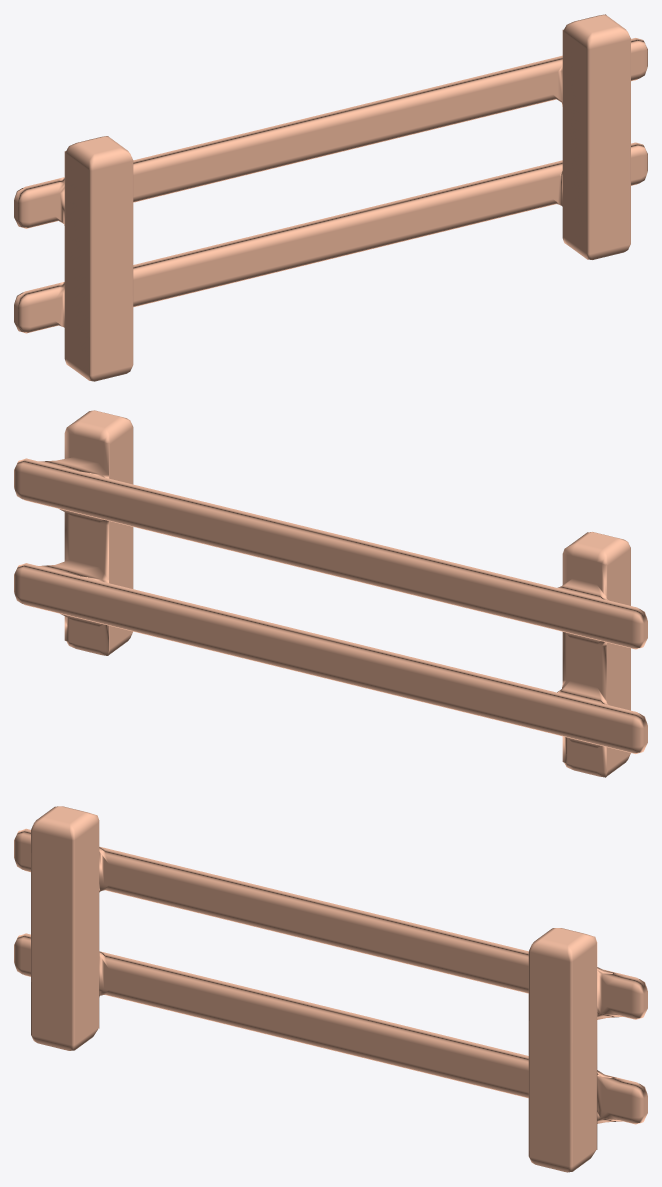
The model's file is fence_planks.glb.
3 views of the same model, one above another, from view 1: azimuth 30°, elevation 25°; view 2: azimuth 150°, elevation 25°; view 3: azimuth 330°, elevation 25° (orthographic).
Visible parts, largest first — view 1: fence_planks; view 2: fence_planks; view 3: fence_planks.
Boxes of the visible parts, x1=… form: fence_planks: x1=14, y1=14, x2=647, y2=381; fence_planks: x1=14, y1=410, x2=647, y2=777; fence_planks: x1=14, y1=806, x2=647, y2=1172.
Size of the model in its own units: 1 by 0.345 by 0.0959.
